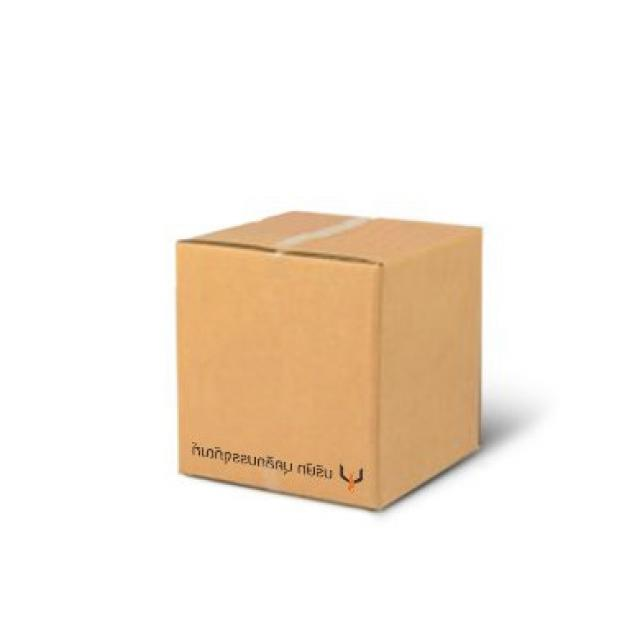box: (145, 198, 496, 526)
